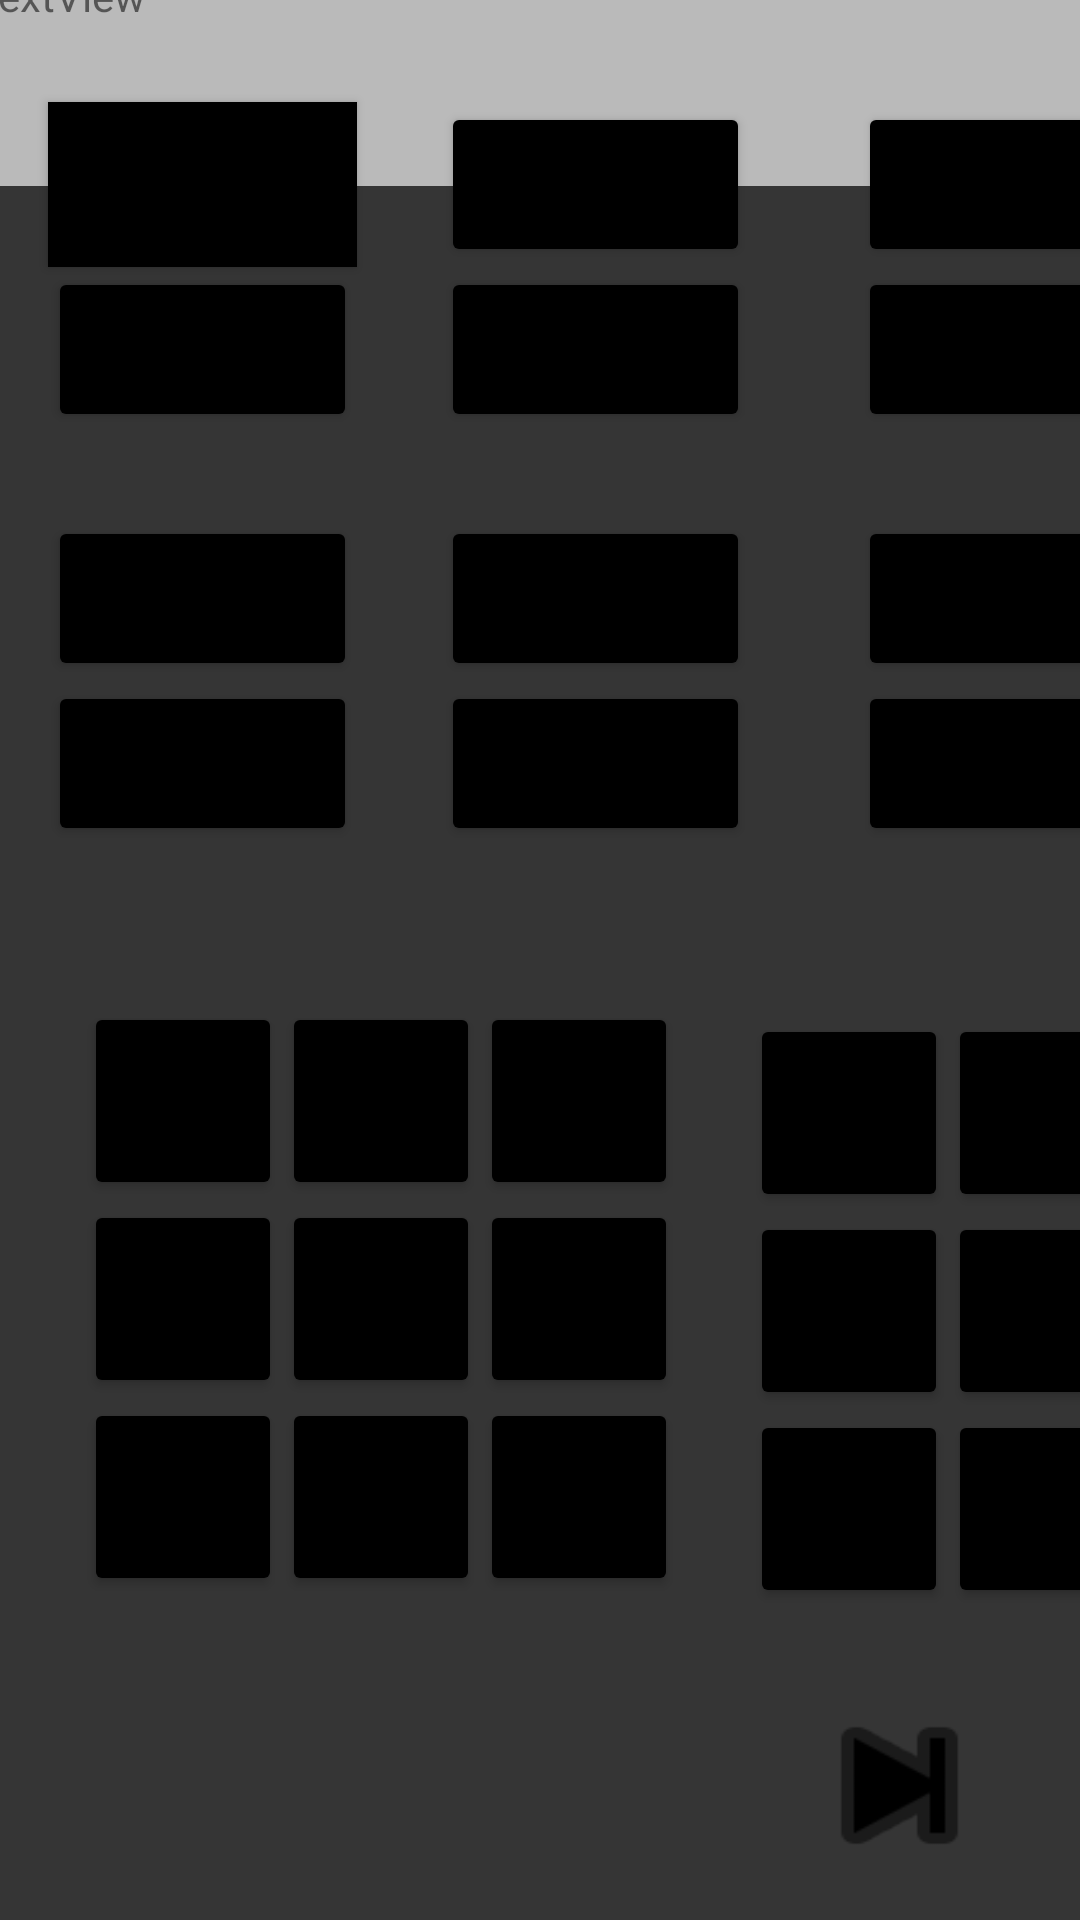

Where icons sit on this 1080x1920 app screen, as detection(x1, y1, x2, y2):
next: detection(842, 1728, 957, 1843)
